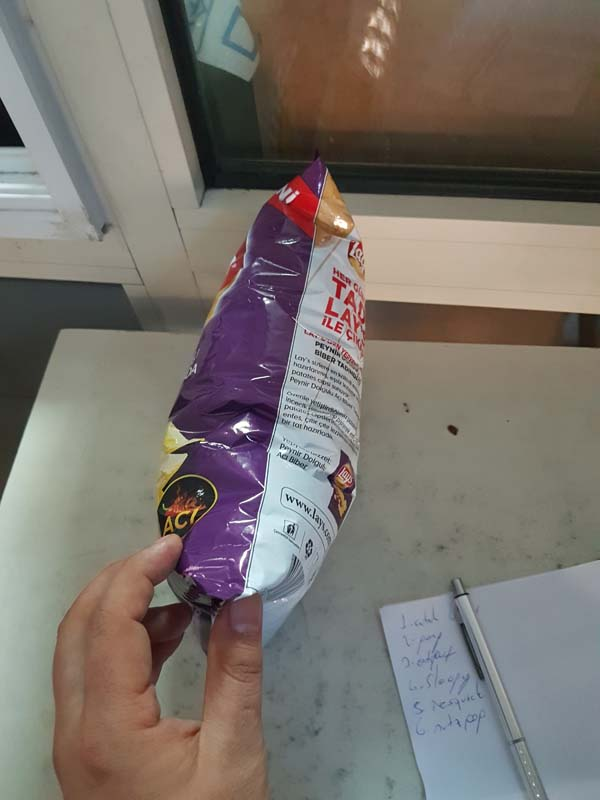layspeynirsoslu: (133, 154, 374, 605)
